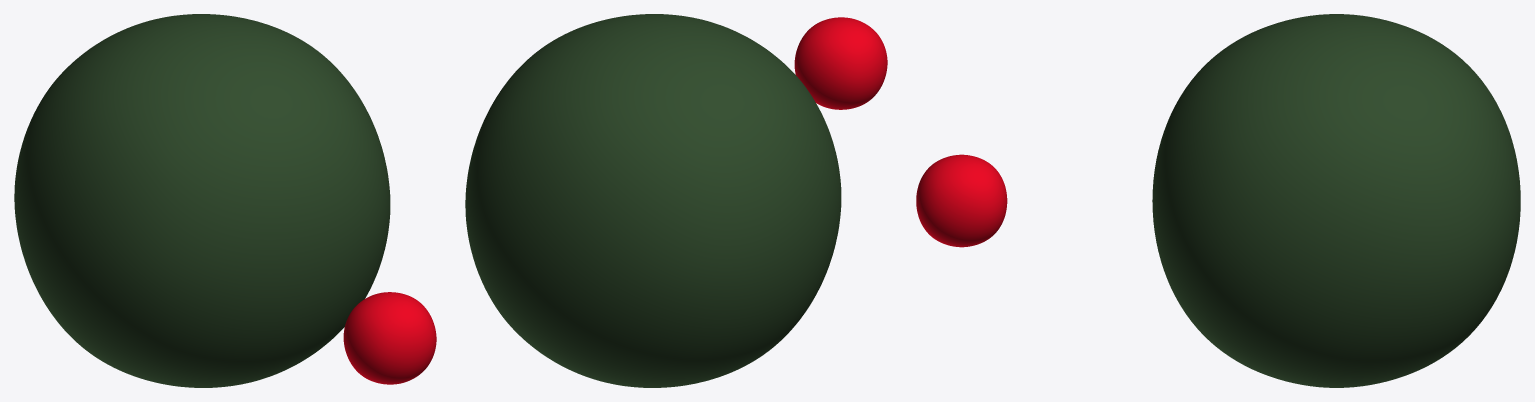
File: Hydrogen.gltf
3 views of the same model, side by side, from view 1: azimuth 30°, elevation 25°; view 2: azimuth 150°, elevation 25°; view 3: azimuth 270°, elevation 25° (orthographic).
Visible parts, largest first — view 1: Cube, Cube.001; view 2: Cube, Cube.001; view 3: Cube, Cube.001.
Boxes of the visible parts, x1=… form: Cube: x1=14, y1=14, x2=390, y2=387; Cube.001: x1=343, y1=292, x2=436, y2=384; Cube: x1=465, y1=14, x2=841, y2=387; Cube.001: x1=794, y1=17, x2=887, y2=109; Cube: x1=1152, y1=14, x2=1520, y2=387; Cube.001: x1=916, y1=154, x2=1007, y2=247.
Size of the model in its own units: 1.68 by 1.68 by 2.76.
